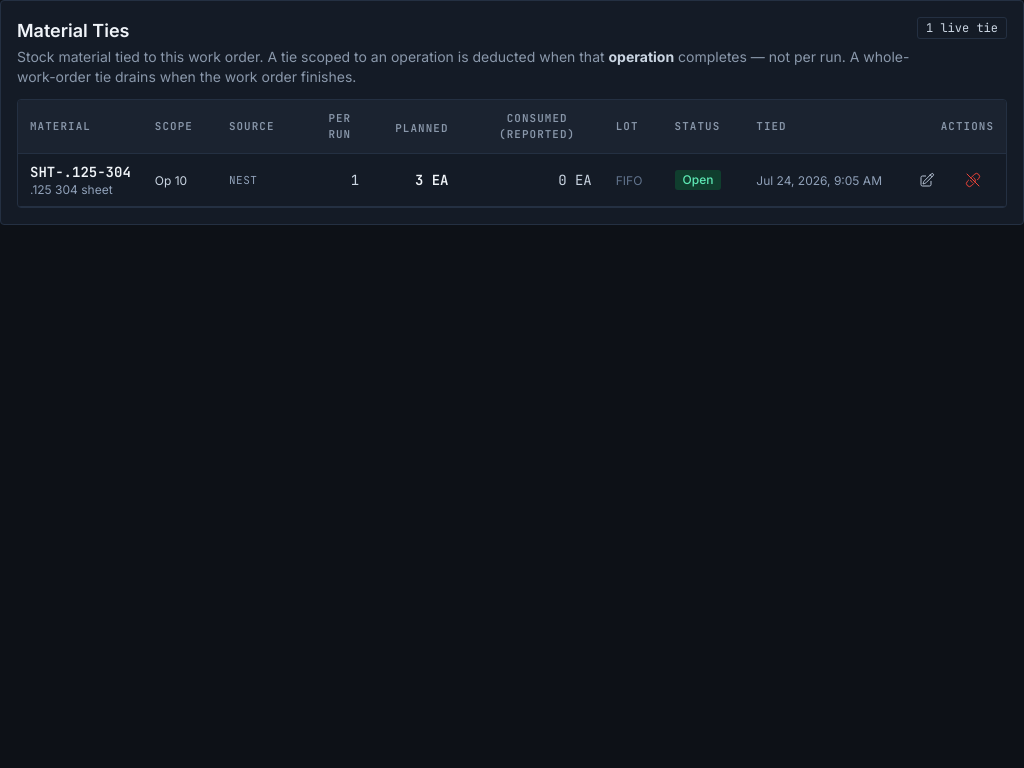
it: MaterialTiesPanel — gated mutations › re-reads from the server after a successful untie rather than patching state
Expected: the text "SHT-.125-304" is shown, [30,162,131,182]
Click the button named "Untie SHT-.125-304 from this work order" at (973, 180), box [952,164,994,196]
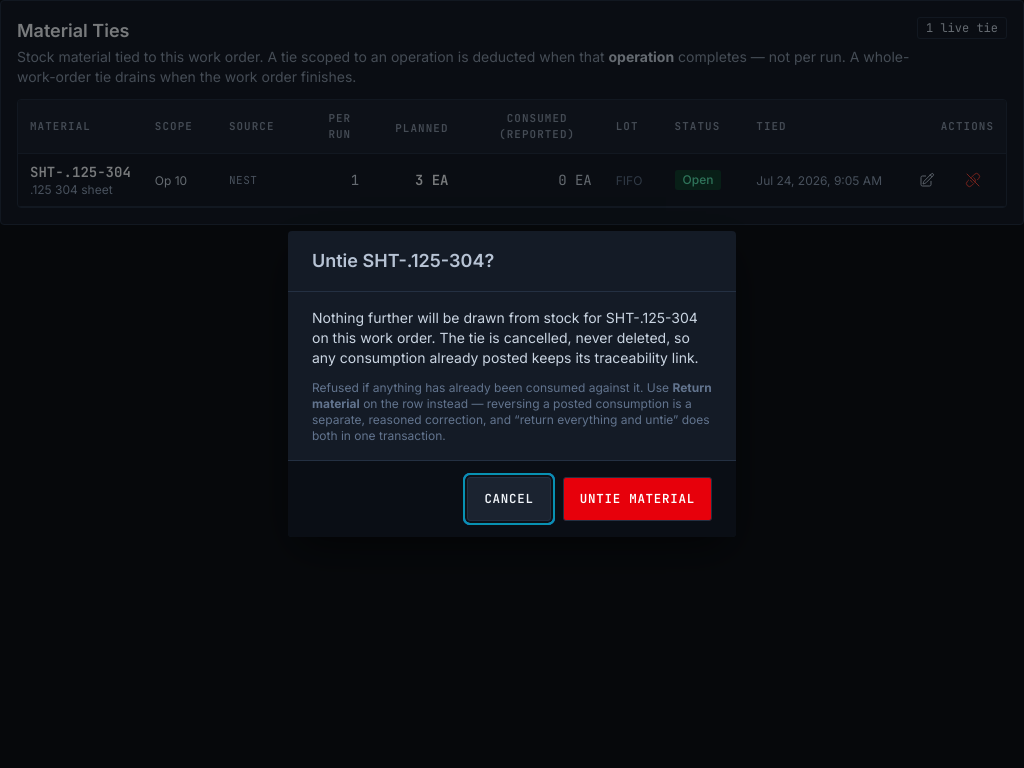
Click the button "Untie material" at (637, 499), box [563,477,712,521]
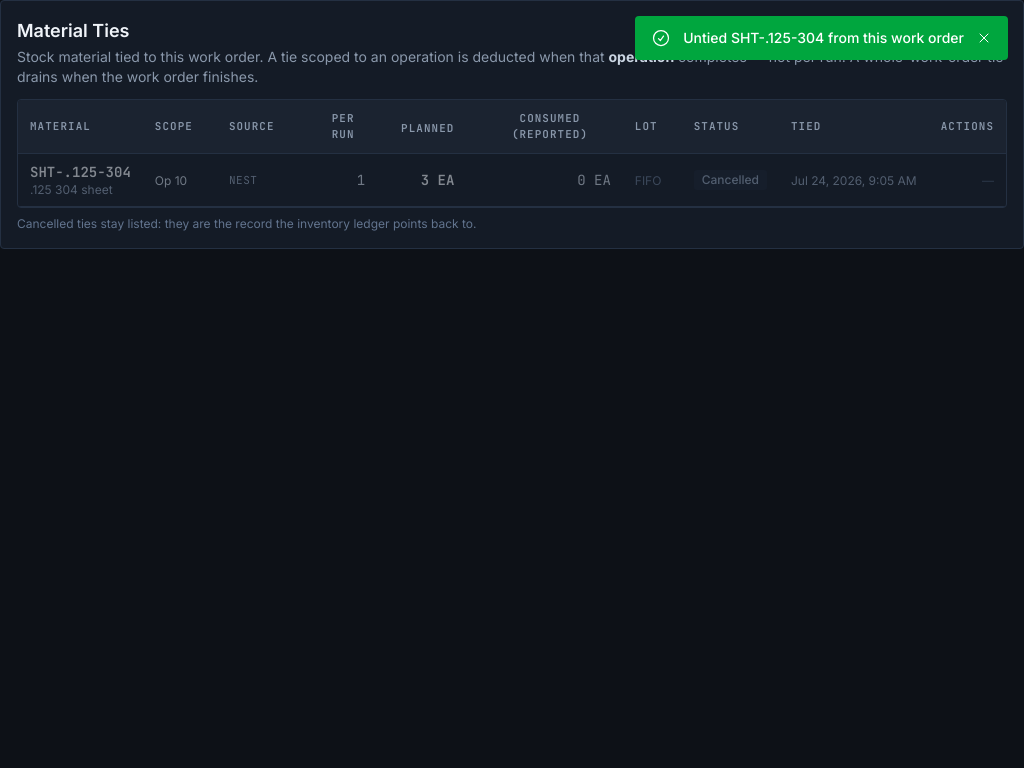
Expected: the text "cancelled" is shown, [694,170,767,190]
